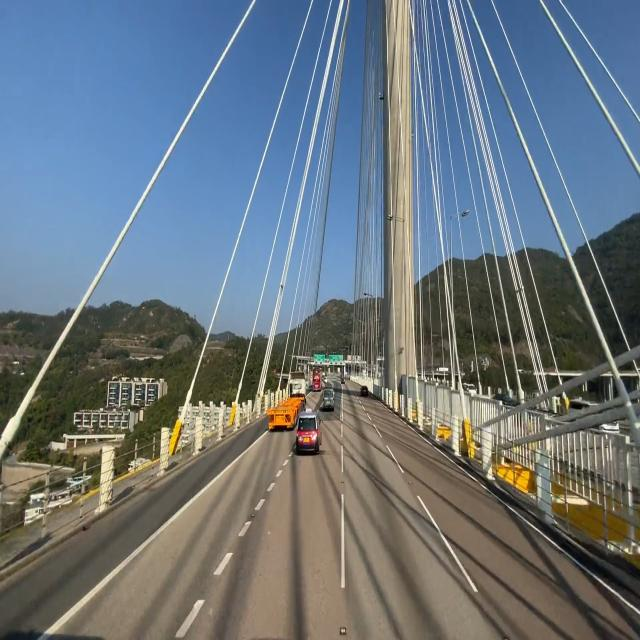Car: (266, 372, 310, 432), (294, 405, 324, 456), (318, 382, 336, 416)
